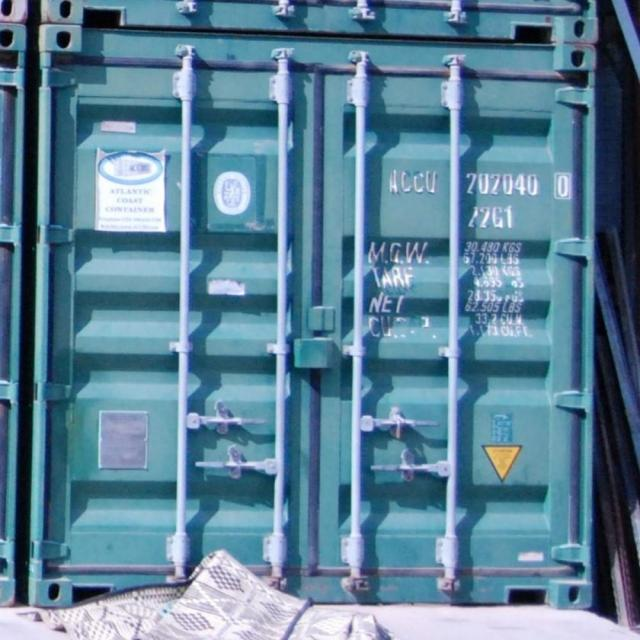ISO: (469, 206, 516, 236)
container_number: (387, 174, 566, 198)
